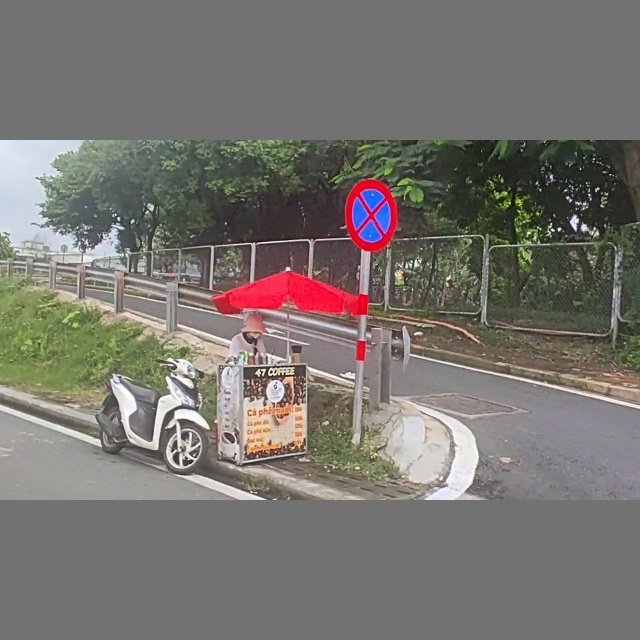P.130: (343, 178, 399, 255)
